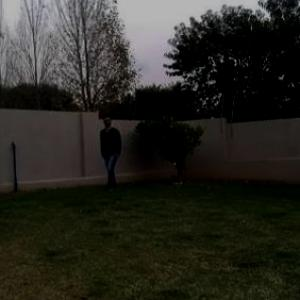follow: (102, 117, 120, 187)
